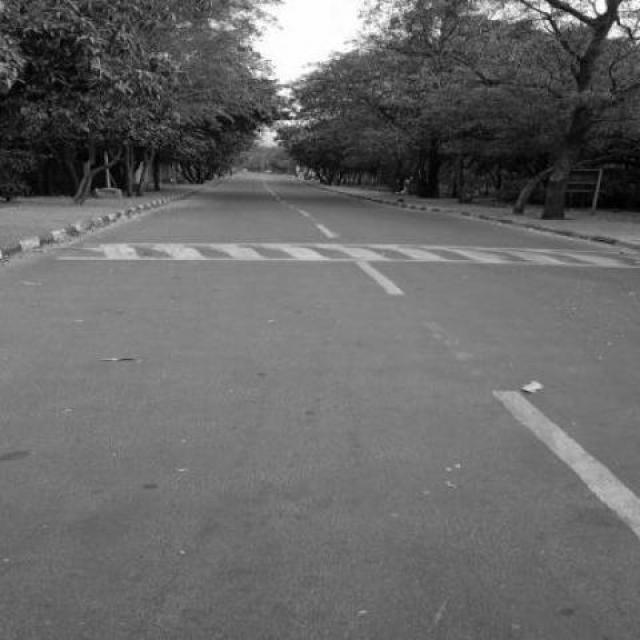Speed Bump: (3, 243, 638, 268)
